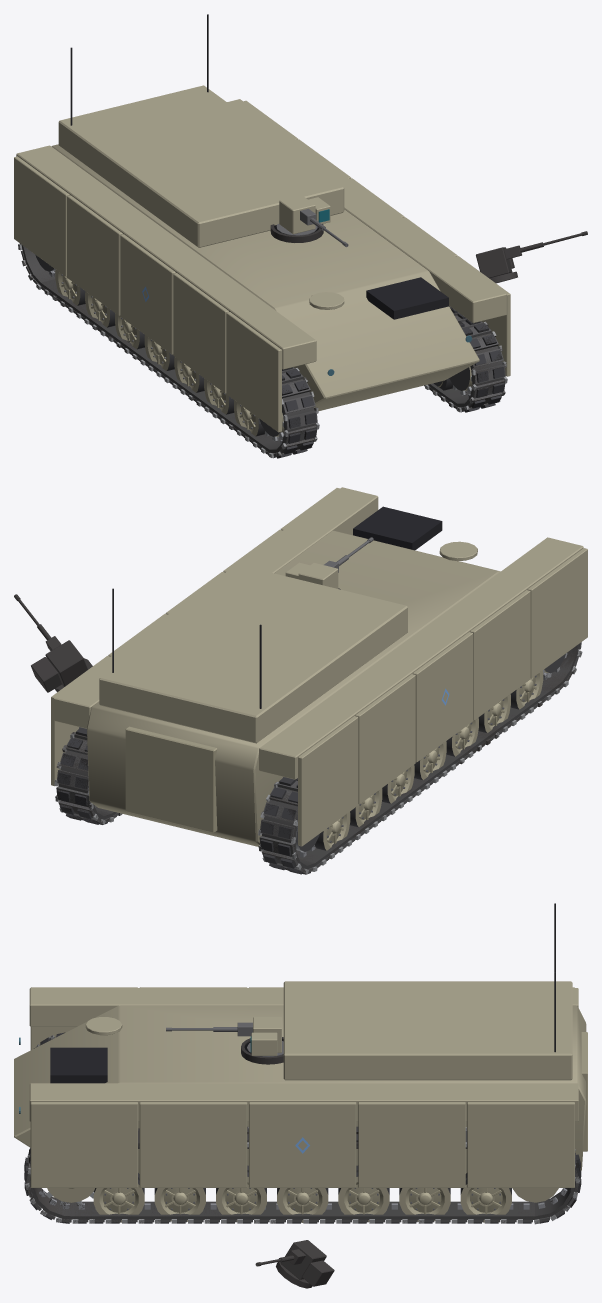
File: apc__athena.glb
The picture shows the model from 3 angles, top to bottom: view 1: azimuth 30°, elevation 25°; view 2: azimuth 150°, elevation 25°; view 3: azimuth 270°, elevation 25°; orthographic projection. The views are drawn at different scales.
Visible parts, largest first — view 1: Hull_Mesh, Track_L_Mesh, Wreck, Track_R_Mesh, Turret_Mesh, Wheel_L3_Mesh, Wheel_L4_Mesh, Wheel_L0_Mesh, Wheel_L5_Mesh, Wheel_L1_Mesh, Wheel_L2_Mesh, Wheel_L6_Mesh; view 2: Hull_Mesh, Track_L_Mesh, Wreck, Track_R_Mesh, Turret_Mesh, Wheel_L0_Mesh, Wheel_L3_Mesh, Wheel_L2_Mesh, Wheel_L4_Mesh, Wheel_L6_Mesh, Wheel_L1_Mesh, Wheel_L5_Mesh; view 3: Hull_Mesh, Track_R_Mesh, Wreck, Wheel_R2_Mesh, Wheel_R0_Mesh, Wheel_R4_Mesh, Wheel_R6_Mesh, Wheel_R1_Mesh, Wheel_R3_Mesh, Wheel_R5_Mesh, Turret_Mesh, Sprocket_R_Mesh (+2 smaller).
Part boxes in pixels (x1,y1,x2,y2): Hull_Mesh: (14,14,510,432); Track_L_Mesh: (18,243,319,458); Wreck: (18,224,587,457); Track_R_Mesh: (424,306,507,412); Turret_Mesh: (276,195,330,235); Wheel_L3_Mesh: (144,335,174,370); Wheel_L4_Mesh: (174,357,204,392); Wheel_L0_Mesh: (55,270,85,305); Wheel_L5_Mesh: (204,378,234,414); Wheel_L1_Mesh: (85,291,115,327); Wheel_L2_Mesh: (115,313,144,349); Wheel_L6_Mesh: (234,400,264,436); Hull_Mesh: (51,487,587,846); Track_L_Mesh: (258,642,582,874); Wreck: (14,588,581,873); Track_R_Mesh: (54,727,122,824); Turret_Mesh: (285,562,338,588); Wheel_L0_Mesh: (315,812,350,850); Wheel_L3_Mesh: (414,741,446,779); Wheel_L2_Mesh: (382,765,414,803); Wheel_L4_Mesh: (446,717,478,756); Wheel_L6_Mesh: (510,670,543,709); Wheel_L1_Mesh: (350,788,382,827); Wheel_L5_Mesh: (478,694,510,733); Hull_Mesh: (14,903,587,1187); Track_R_Mesh: (24,1126,581,1224); Wreck: (25,1032,581,1288); Wheel_R2_Mesh: (338,1165,389,1222); Wheel_R0_Mesh: (460,1173,511,1222); Wheel_R4_Mesh: (216,1165,266,1221); Wheel_R6_Mesh: (93,1173,144,1222); Wheel_R1_Mesh: (399,1188,450,1221); Wheel_R3_Mesh: (277,1188,328,1222); Wheel_R5_Mesh: (154,1188,205,1221); Turret_Mesh: (247,1017,283,1056); Sprocket_R_Mesh: (46,1188,94,1205).
Size of what is drawn, in the model's own units: 6.53 by 3.35 by 7.51.
